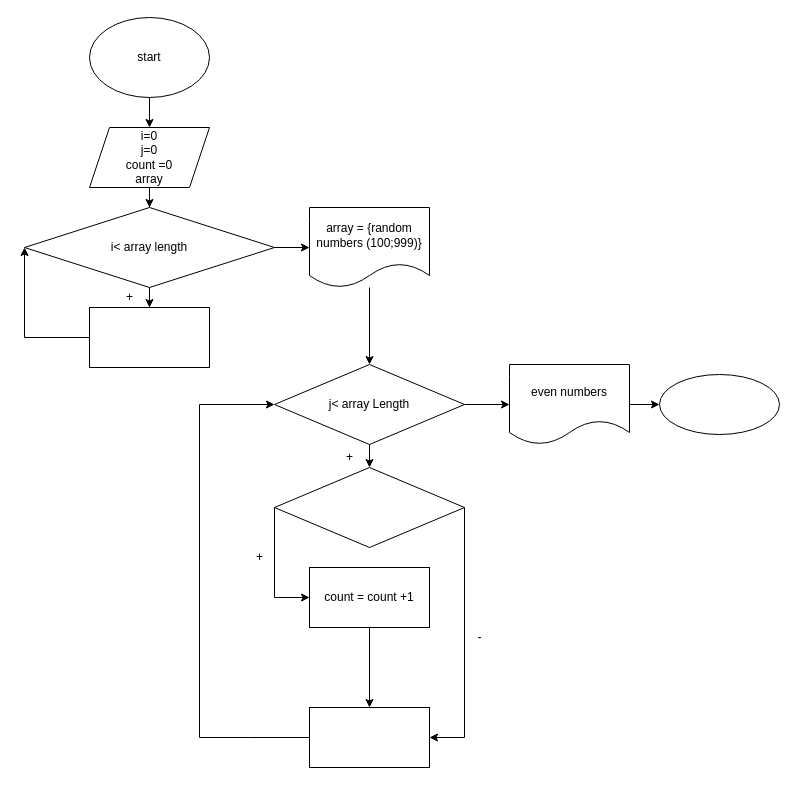
The diagram is 797 pixels wide and 785 high, and some of its shapes have lost their labels. The shapes that lost their labels are listed below. From the top down, each one's box as (x1, y1, x2, y2) in pixels, then its label:
(88, 306, 210, 368): array[i]=random numbers (100;999) i++
(658, 374, 780, 434): end
(274, 466, 464, 548): array[j]%2==0
(308, 706, 430, 768): j++
